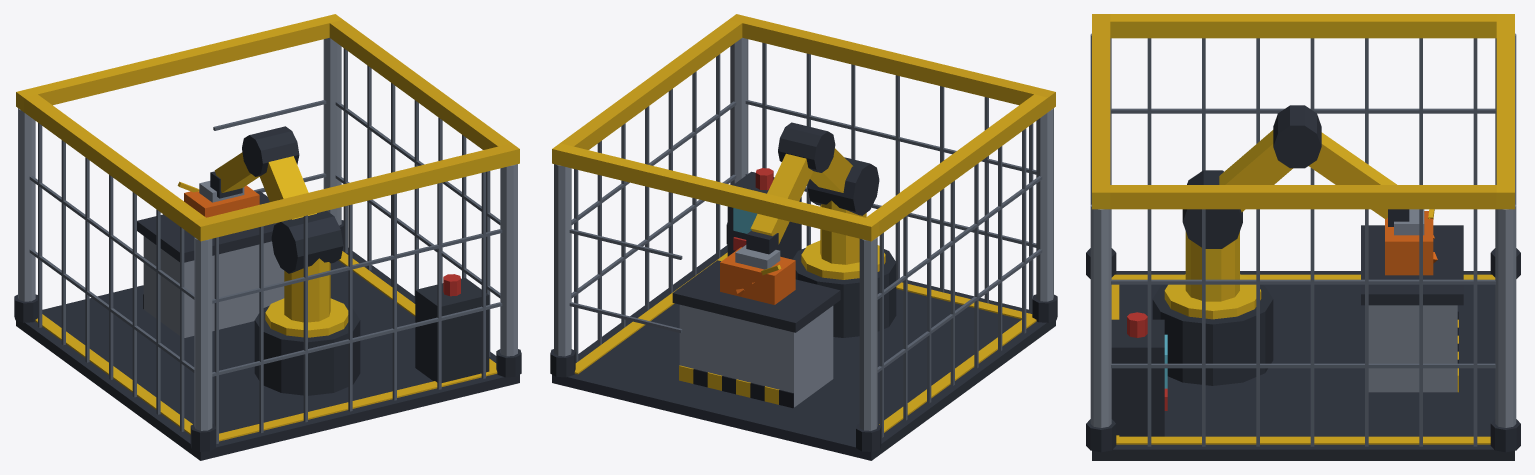
Rendered from Decor_RobotFactory_Welder.fbx.
The picture shows the model from 3 angles, left to right: view 1: azimuth 30°, elevation 25°; view 2: azimuth 150°, elevation 25°; view 3: azimuth 270°, elevation 25°; orthographic projection. The views are drawn at different scales.
Parts seen in each view (by area): view 1: Welder_Body; view 2: Welder_Body; view 3: Welder_Body.
Boxes of the visible parts, left/top/right/bottom form: Welder_Body: left=14, top=14, right=521, bottom=460; Welder_Body: left=550, top=14, right=1057, bottom=460; Welder_Body: left=1086, top=14, right=1520, bottom=460.
Bounding box in the file's own units: 14.1 × 9.6 × 14.1.
